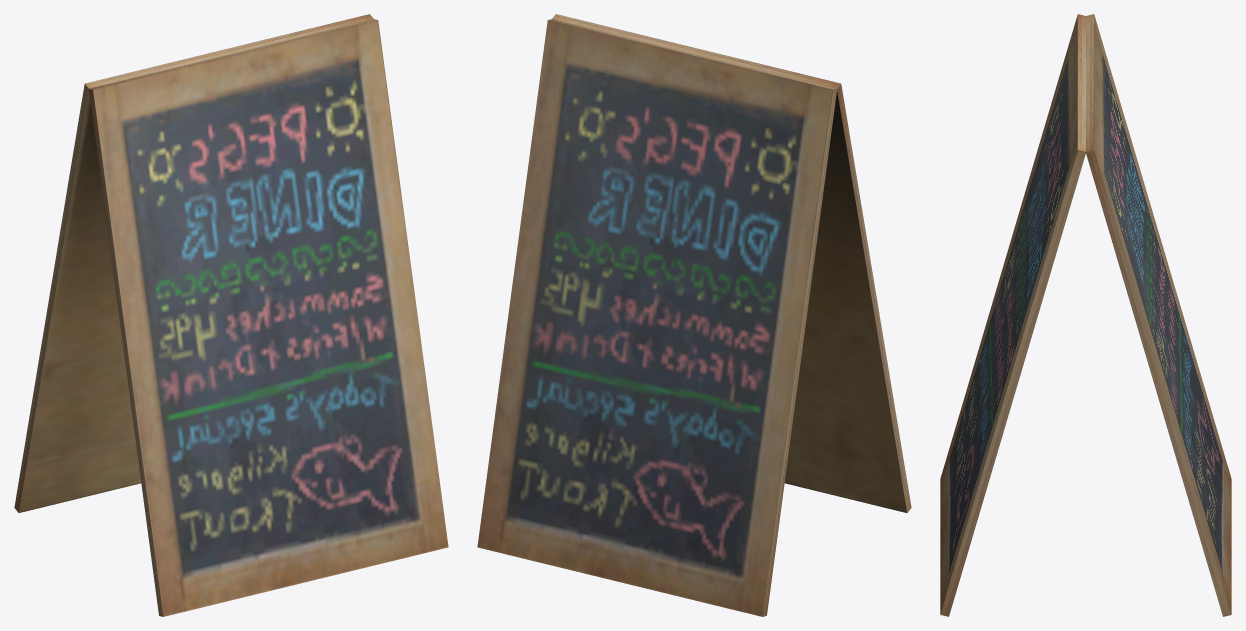
File: diner_sandwichboard.fbx
3 views of the same model, side by side, from view 1: azimuth 30°, elevation 25°; view 2: azimuth 150°, elevation 25°; view 3: azimuth 270°, elevation 25° (orthographic). The views are drawn at different scales.
Visible parts, largest first — view 1: mesh_0; view 2: mesh_0; view 3: mesh_0.
Boxes of the visible parts, box(x1,y1,x2,y2) form: mesh_0: box(14, 14, 448, 616); mesh_0: box(477, 14, 911, 616); mesh_0: box(940, 14, 1231, 616).
Size of the model in its own units: 60 by 96.08 by 54.31.
Materials: 1 (1 with a texture image).
